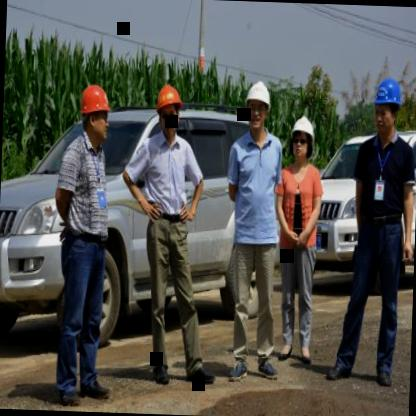helmet: (77, 82, 114, 144), (370, 70, 403, 139), (242, 76, 273, 136), (288, 109, 317, 165), (155, 81, 184, 136)
